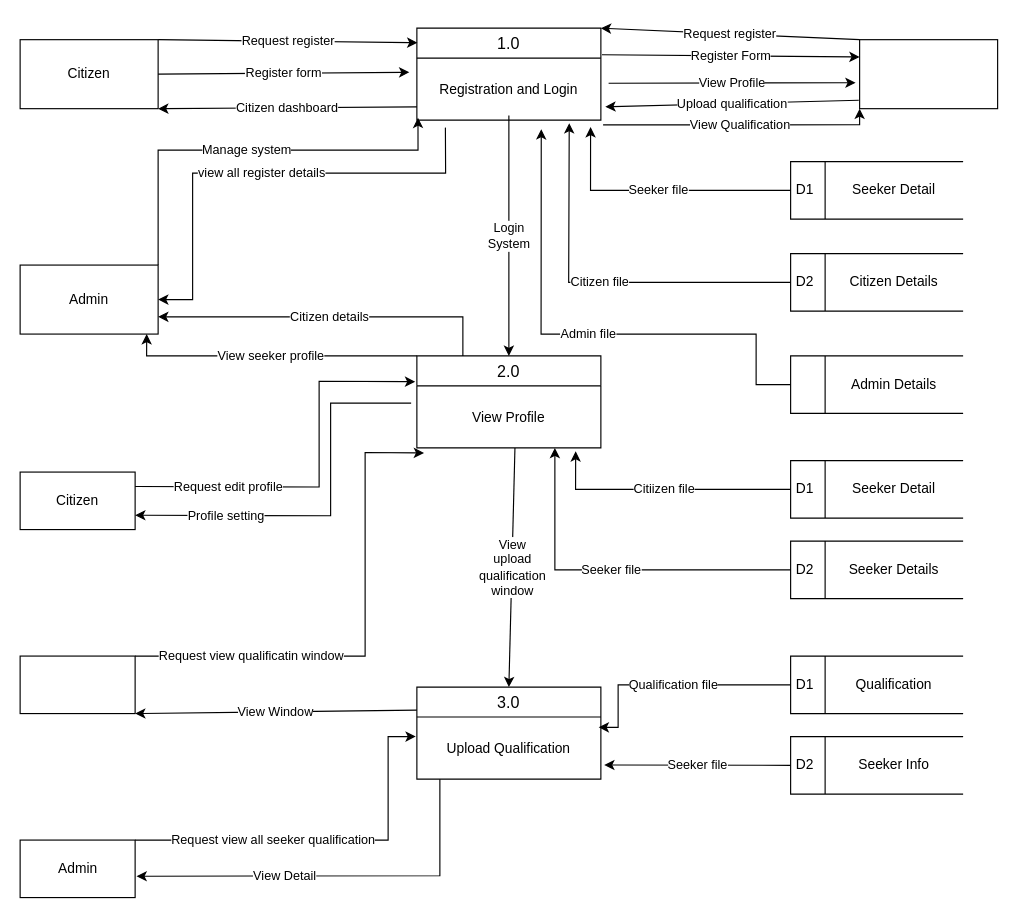
Some shapes in this 1018 by 918 pixel diagram are drawn without their labels. The shapes that lost their labels are listed below. From the top down, each one's box as (x1, y1, x2, y2) in pixels, then its label:
(858, 39, 998, 109): Server
(789, 355, 963, 413): D3
(19, 655, 135, 714): Seeker
